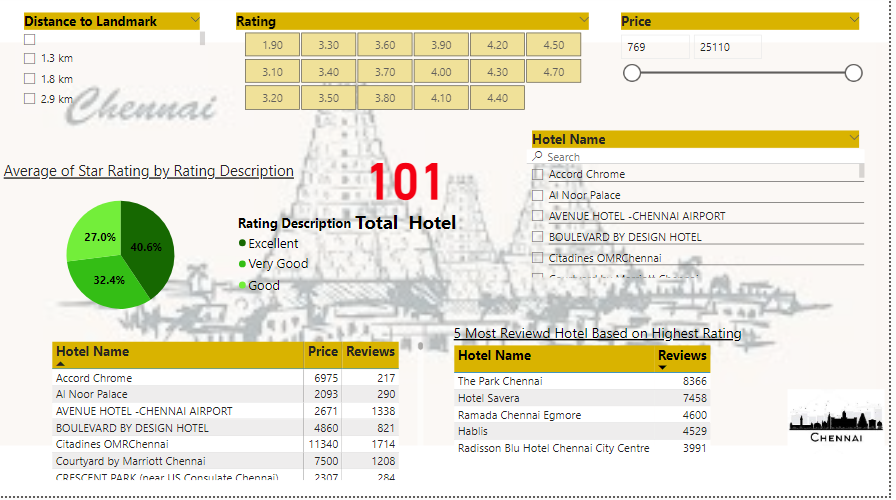

This screenshot's page, from the dashboard's own definition file:
{"tool":"powerbi","page":{"name":"Chennai","canvas":[1280,720],"ordinal":2},"visuals":[{"type":"card","fields":{"Values":["CountNonNull(chennai.Hotel Name)"]},"box":[443.6,188.5,280.6,171.5],"z":0},{"type":"slicer","fields":{"Values":["chennai.Price"]},"box":[881.3,18.7,368.6,152.6],"z":1000},{"type":"slicer","fields":{"Values":["chennai.Hotel Name"]},"box":[753.1,188.6,496.8,221.8],"z":2000},{"type":"pieChart","title":"Average of Star Rating by Rating Description","fields":{"Category":["chennai.Rating Description"],"Y":["Avg(chennai.Star Rating)"]},"box":[0,236.2,511.2,244.8],"z":3000},{"type":"tableEx","title":"5 Most Reviewd Hotel Based on Highest Rating","fields":{"Values":["chennai.Hotel Name","chennai.Reviews"]},"box":[648,470.9,436.3,208.8],"z":4000},{"type":"slicer","fields":{"Values":["chennai.Distance to Landmark"]},"box":[21.3,18.4,279.2,151.7],"z":5000},{"type":"tableEx","fields":{"Values":["chennai.Hotel Name","chennai.Price","chennai.Reviews"]},"box":[69.1,492.5,545.8,210.2],"z":6000},{"type":"slicer","fields":{"Values":["chennai.Rating"]},"box":[327.4,18.4,534.3,151.7],"z":7000},{"type":"image","box":[1129.6,537.2,150.2,150.2],"z":8000}]}

Visuals, with their boxes in screenshot pixels (x1, y1, x2, y2), scaled from the page's 1280x720 canvas onto the 896x500 screenshot:
card - CountNonNull(chennai.Hotel Name): l=311, t=131, r=507, b=250
slicer - chennai.Price: l=617, t=13, r=875, b=119
slicer - chennai.Hotel Name: l=527, t=131, r=875, b=285
"Average of Star Rating by Rating Description" pieChart: l=0, t=164, r=358, b=334
"5 Most Reviewd Hotel Based on Highest Rating" tableEx: l=454, t=327, r=759, b=472
slicer - chennai.Distance to Landmark: l=15, t=13, r=210, b=118
tableEx - chennai.Hotel Name x chennai.Price: l=48, t=342, r=430, b=488
slicer - chennai.Rating: l=229, t=13, r=603, b=118
image: l=791, t=373, r=895, b=477
